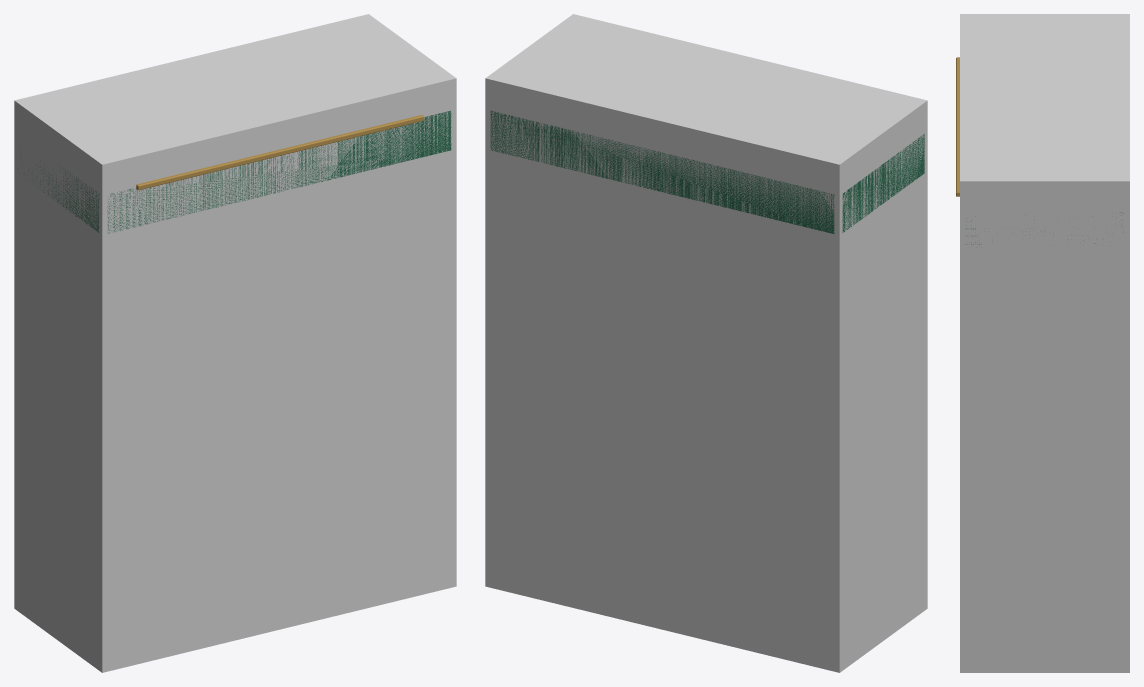
File: feature-gondola_boutique.glb
3 views of the same model, side by side, from view 1: azimuth 30°, elevation 25°; view 2: azimuth 150°, elevation 25°; view 3: azimuth 270°, elevation 25° (orthographic). The views are drawn at different scales.
Parts seen in each view (by area): view 1: COL_feature-gondola, MESH_DisplayTop, MESH_TierTrim_01; view 2: COL_feature-gondola, MESH_DisplayTop; view 3: COL_feature-gondola, MESH_TierTrim_01.
Part boxes in pixels (bbox=[...]): COL_feature-gondola: bbox=[14, 14, 456, 672]; MESH_DisplayTop: bbox=[21, 110, 451, 233]; MESH_TierTrim_01: bbox=[136, 115, 424, 190]; COL_feature-gondola: bbox=[485, 14, 927, 672]; MESH_DisplayTop: bbox=[490, 110, 924, 233]; COL_feature-gondola: bbox=[960, 14, 1129, 672]; MESH_TierTrim_01: bbox=[956, 57, 959, 196].
Size of the model in its own units: 1.35 by 1.85 by 0.593.
